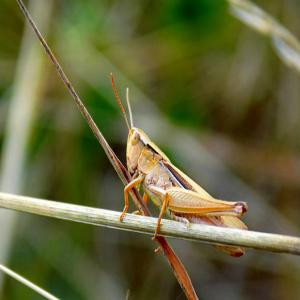locust: (117, 99, 251, 254)
